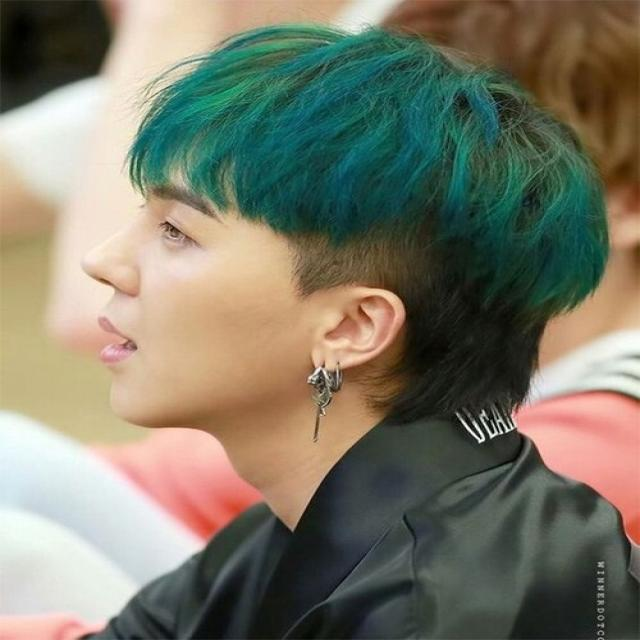Nonhelmet: (79, 19, 612, 441)
